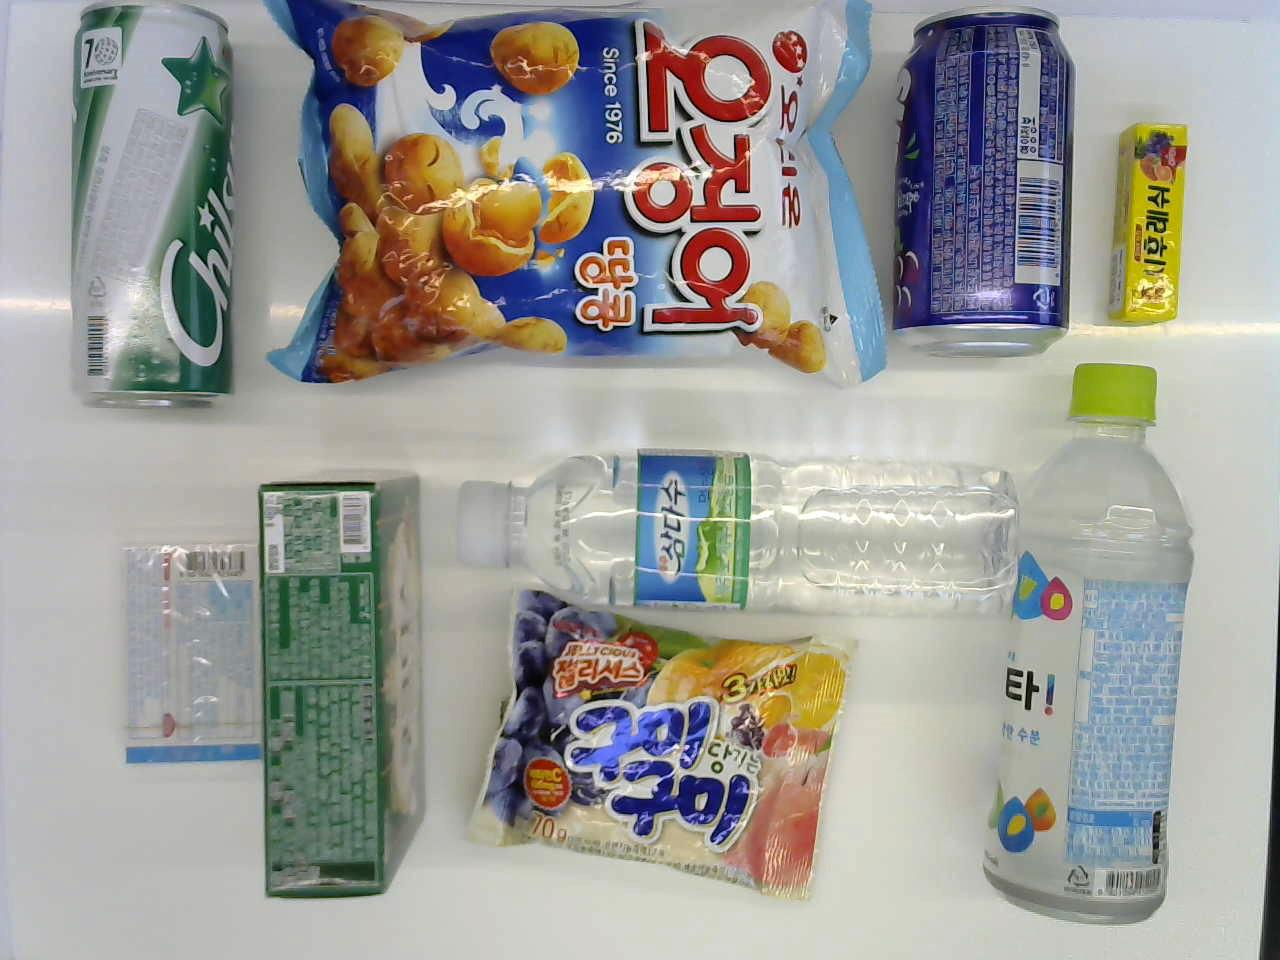ID_gum: (106, 539, 270, 768)
cidar: (78, 4, 235, 408)
couque_coffee: (260, 460, 434, 911)
gumi_gumi: (484, 594, 851, 907)
juicyfresh: (1114, 119, 1184, 324)
samdasu: (447, 428, 1030, 621)
squid_peanut: (266, 0, 900, 389)
toreta: (979, 358, 1197, 920)
welchs: (900, 6, 1073, 369)
